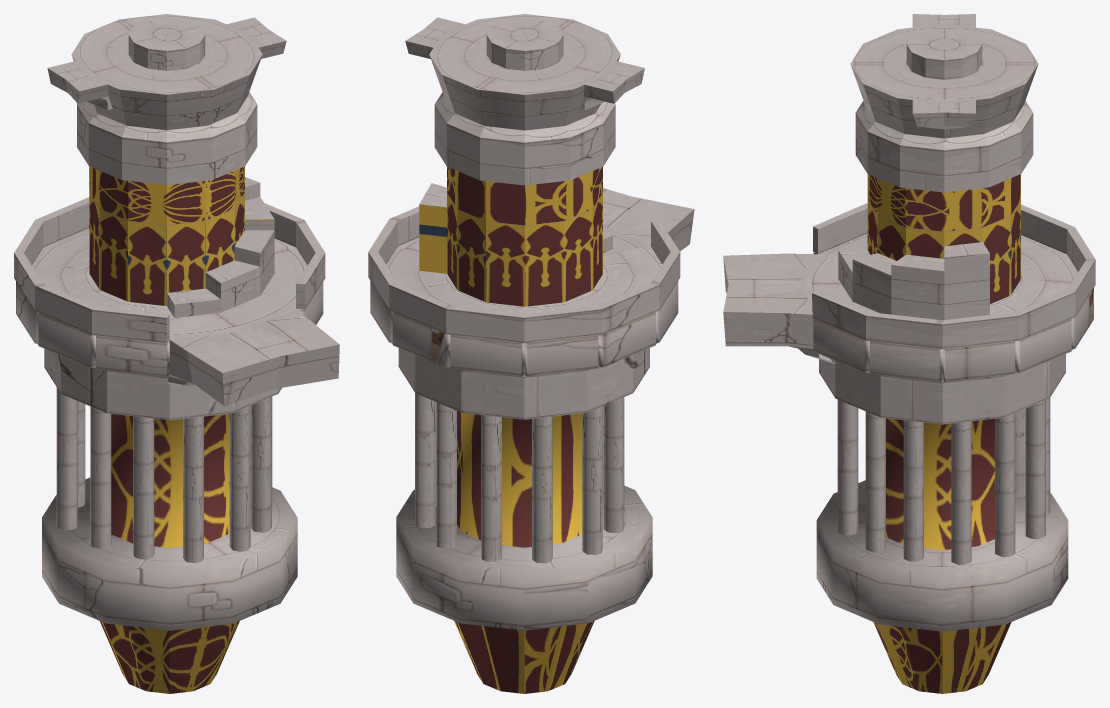
Rendered from Props_Tower4.fbx.
The picture shows the model from 3 angles, left to right: view 1: azimuth 30°, elevation 25°; view 2: azimuth 150°, elevation 25°; view 3: azimuth 270°, elevation 25°; orthographic projection.
Parts seen in each view (by area): view 1: polySurface2252; view 2: polySurface2252; view 3: polySurface2252.
Boxes of the visible parts, bbox=[...] form: polySurface2252: bbox=[14, 14, 339, 693]; polySurface2252: bbox=[368, 14, 694, 693]; polySurface2252: bbox=[723, 14, 1095, 693].
Size of the model in its own units: 23.8 by 53.94 by 28.93.
Materials: 1 (1 with a texture image).
